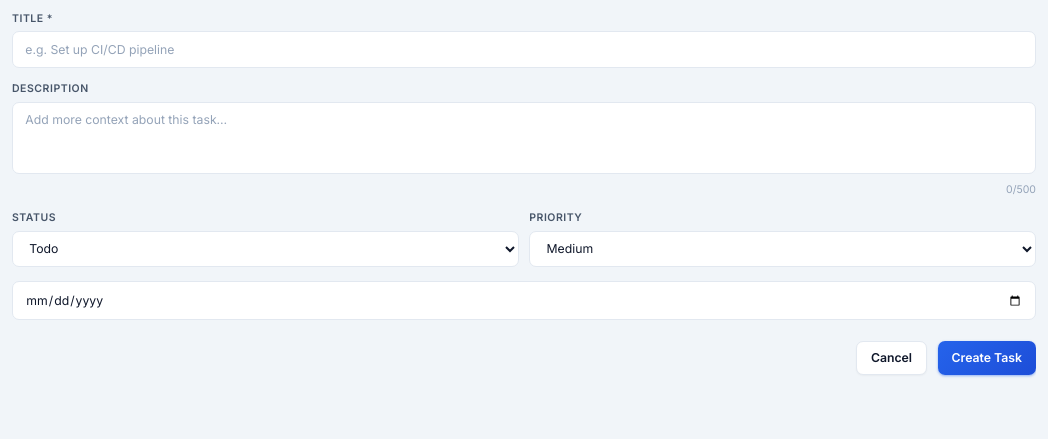
Test: TaskForm › shows validation errors for empty title and due date
Click the button "Create Task".
click(987, 358)  # box [938, 341, 1036, 375]
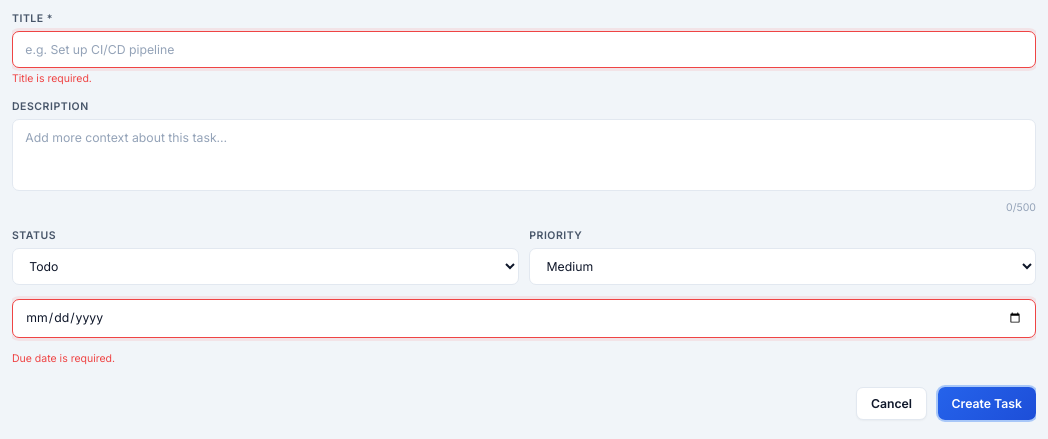
Check: the text "Title is required." is shown, box [12, 72, 92, 85]
Check: the text "Due date is required." is shown, box [12, 352, 115, 365]
